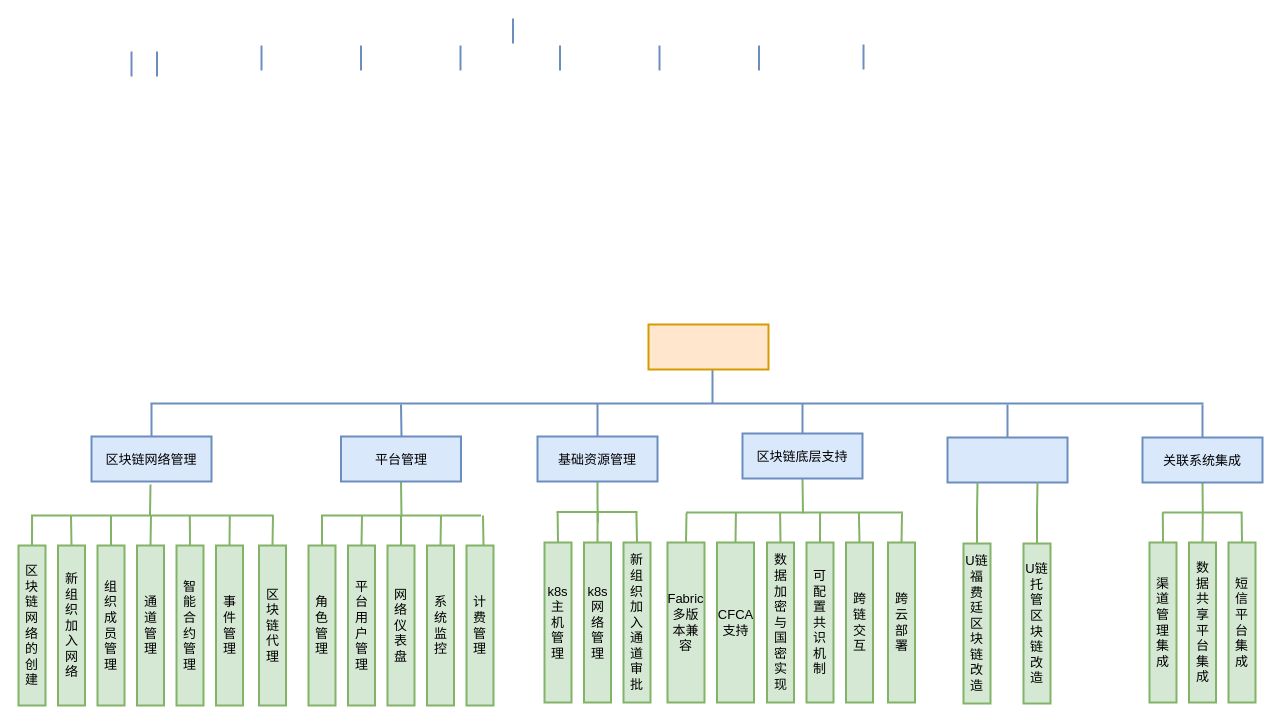
Image size: 1280x723. Some labels were removed from this diagram. The centre of each missing label's shape, as x and y in pixels:
"区块链服务平台" goes at (708,346).
"已有系统改造" goes at (1007,459).
